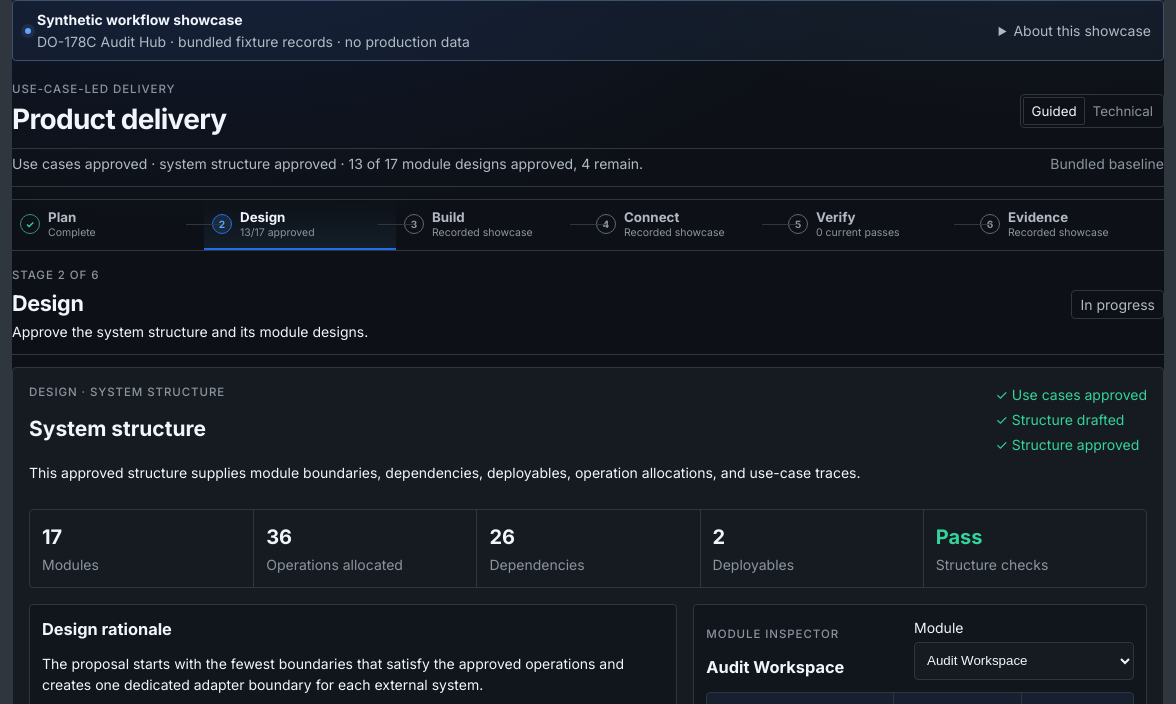
Test: Workspace tabs — tablist semantics, aria-current/aria-selected, arrow-key nav (§18.4, §24.4) › exposes a six-stage journey by default and the complete workflow as one expert tablist
Click the button "Technical" at (1123, 111), box [1085, 97, 1161, 125]
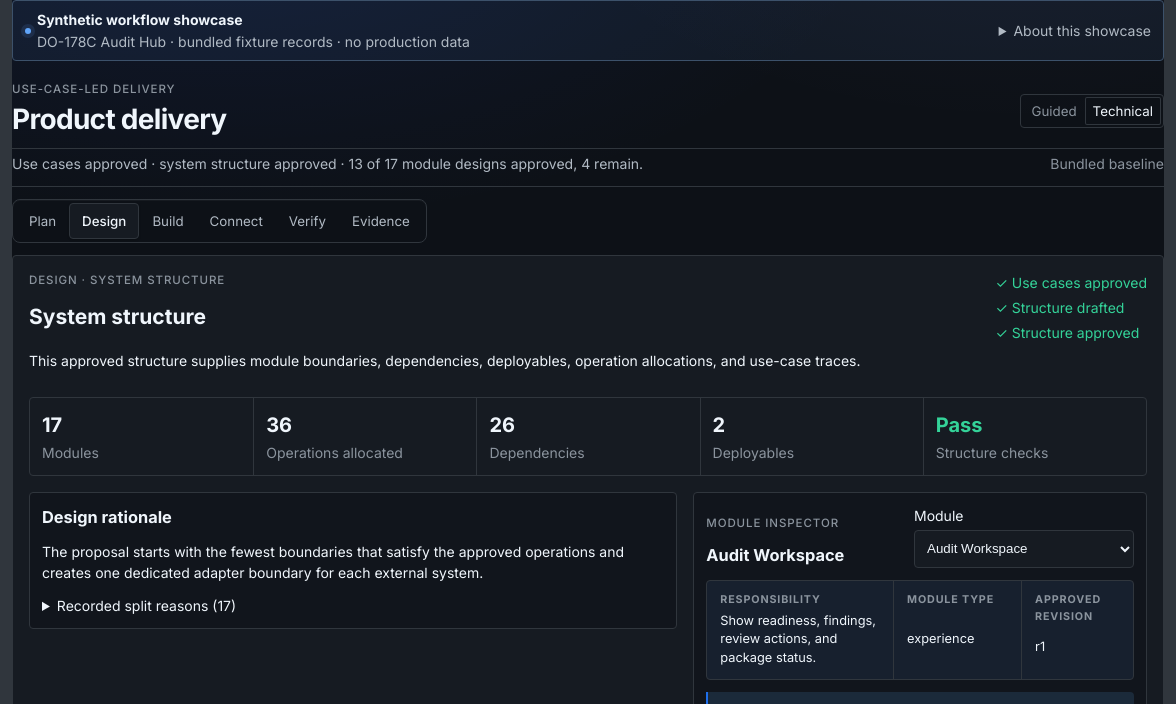
Expected: the tabs read "Plan", "Design", "Build", "Connect", "Verify", "Evidence", in this order, [16, 203, 69, 239]; [69, 203, 139, 239]; [139, 203, 197, 239]; [197, 203, 276, 239]; [276, 203, 339, 239]; [339, 203, 423, 239]
